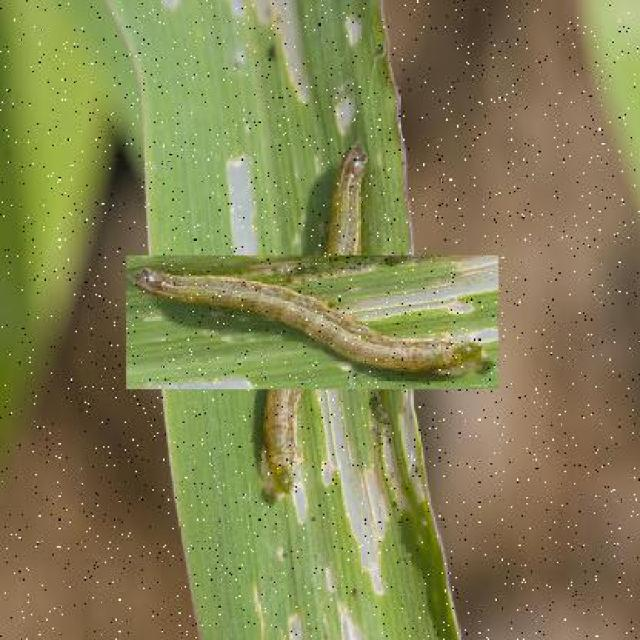Plaga: (186, 196, 441, 452)
